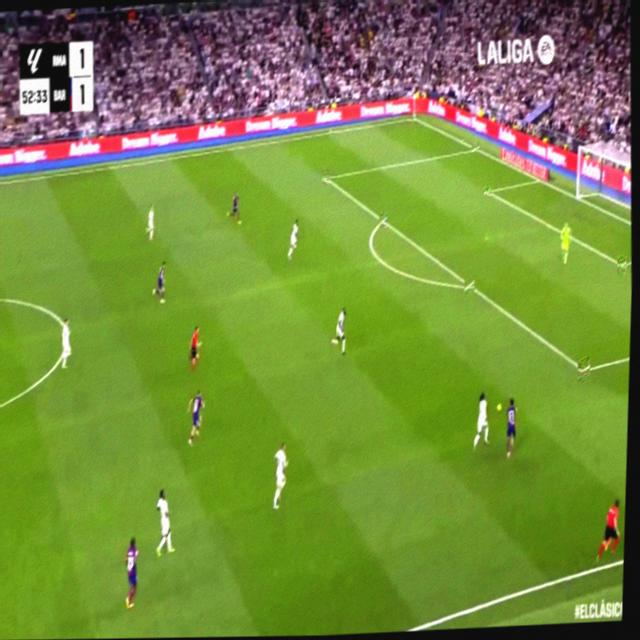bigarea_bottom_inner: (576, 356, 590, 382)
bigarea_top_inner: (320, 169, 330, 185)
bigarea_top_outter: (471, 140, 479, 154)
bottom_arc_area_intersection: (463, 274, 474, 295)
corner: (408, 111, 418, 122)
smallarea_bottom_inner: (616, 254, 626, 274)
smallarea_top_inner: (483, 183, 492, 197)
top_arc_area_intersection: (377, 211, 387, 227)
